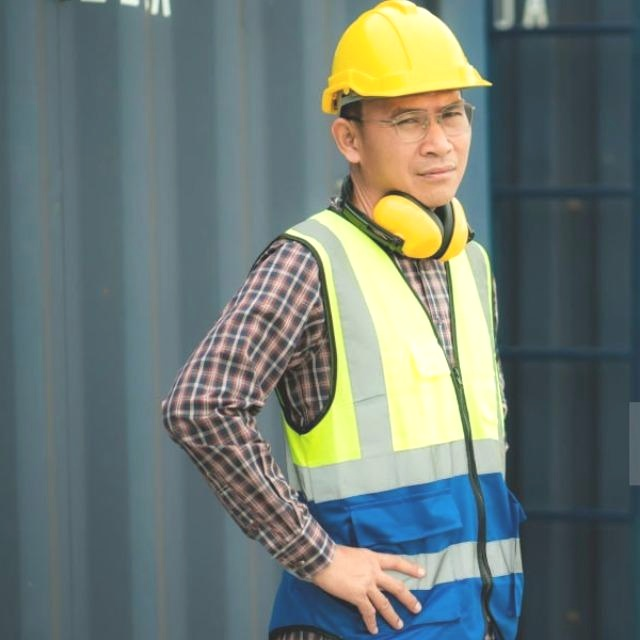Con_Casco: (318, 1, 496, 199)
Con_Chaleco: (249, 216, 511, 640)
